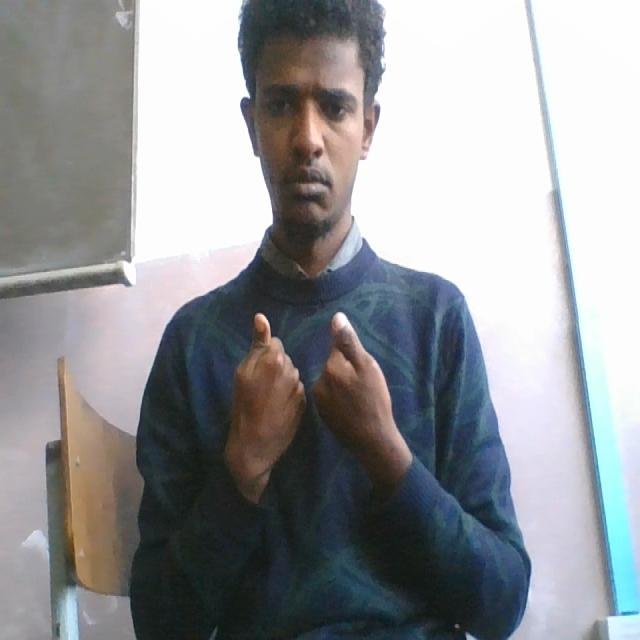dabo: (226, 306, 393, 488)
